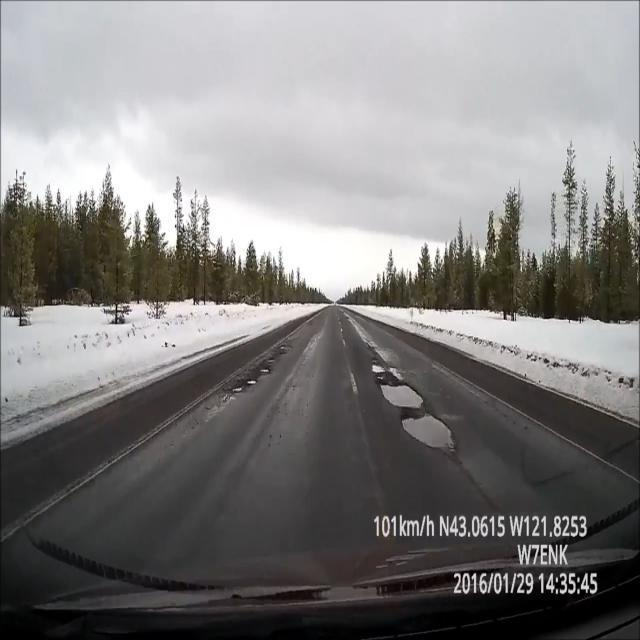pothole: (365, 348, 465, 464), (222, 349, 274, 399)
